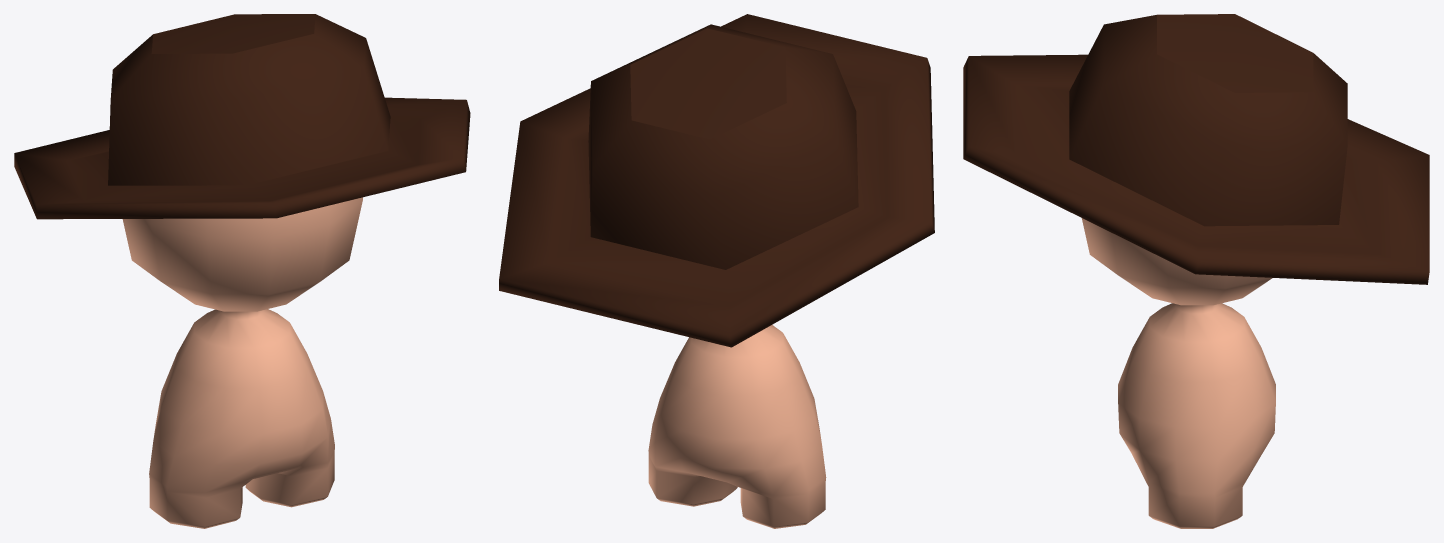
File: Enemy Character.FBX
The picture shows the model from 3 angles, left to right: view 1: azimuth 30°, elevation 25°; view 2: azimuth 150°, elevation 25°; view 3: azimuth 270°, elevation 25°; orthographic projection. The views are drawn at different scales.
Parts seen in each view (by area): view 1: Sphere004; view 2: Sphere004; view 3: Sphere004.
Part boxes in pixels (x1,y1,x2,y2): Sphere004: (14, 14, 470, 528); Sphere004: (499, 14, 934, 528); Sphere004: (963, 14, 1429, 528).
Bounding box in the file's own units: 8.7 × 8.95 × 8.2.
